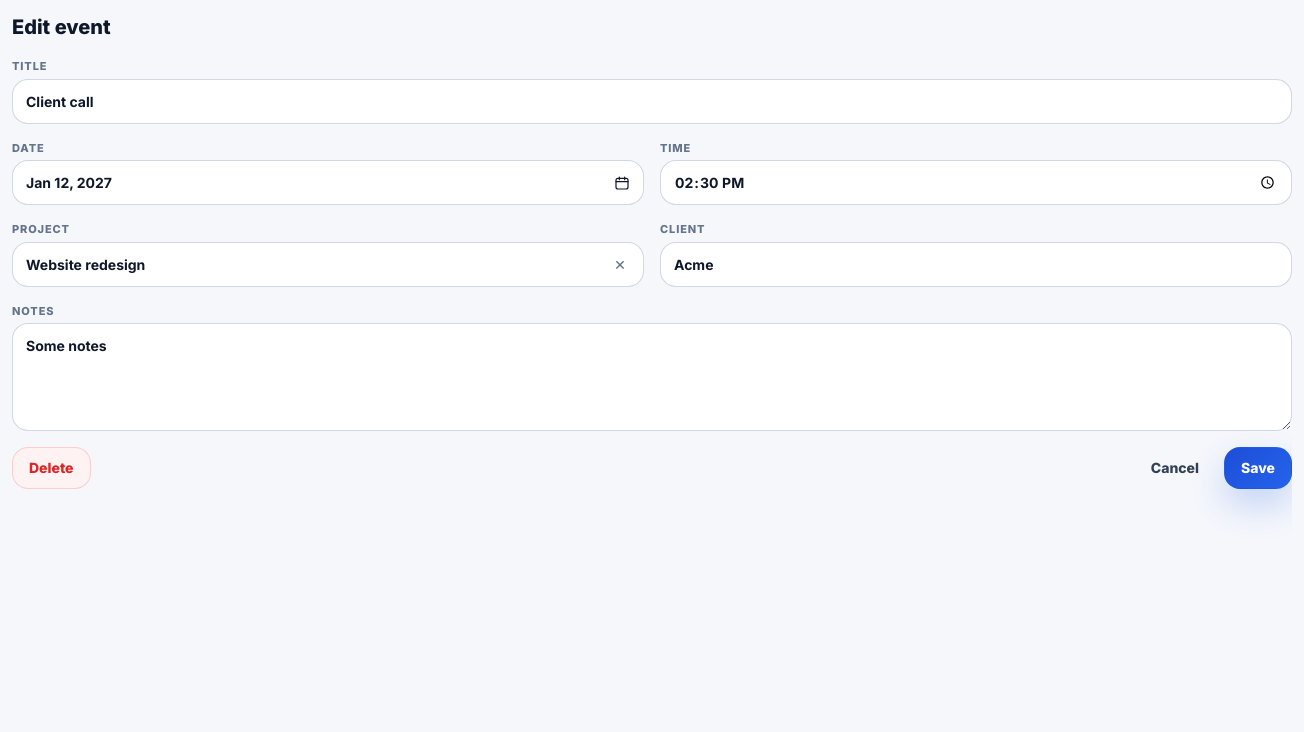
Test: CalendarEventForm — delete flow › failure preserves the dialog/form and shows an inline delete error
The width and height of the screenshot is (1304, 732).
Click the button "Delete". click: [51, 468]
box: 12,447 -> 90,489
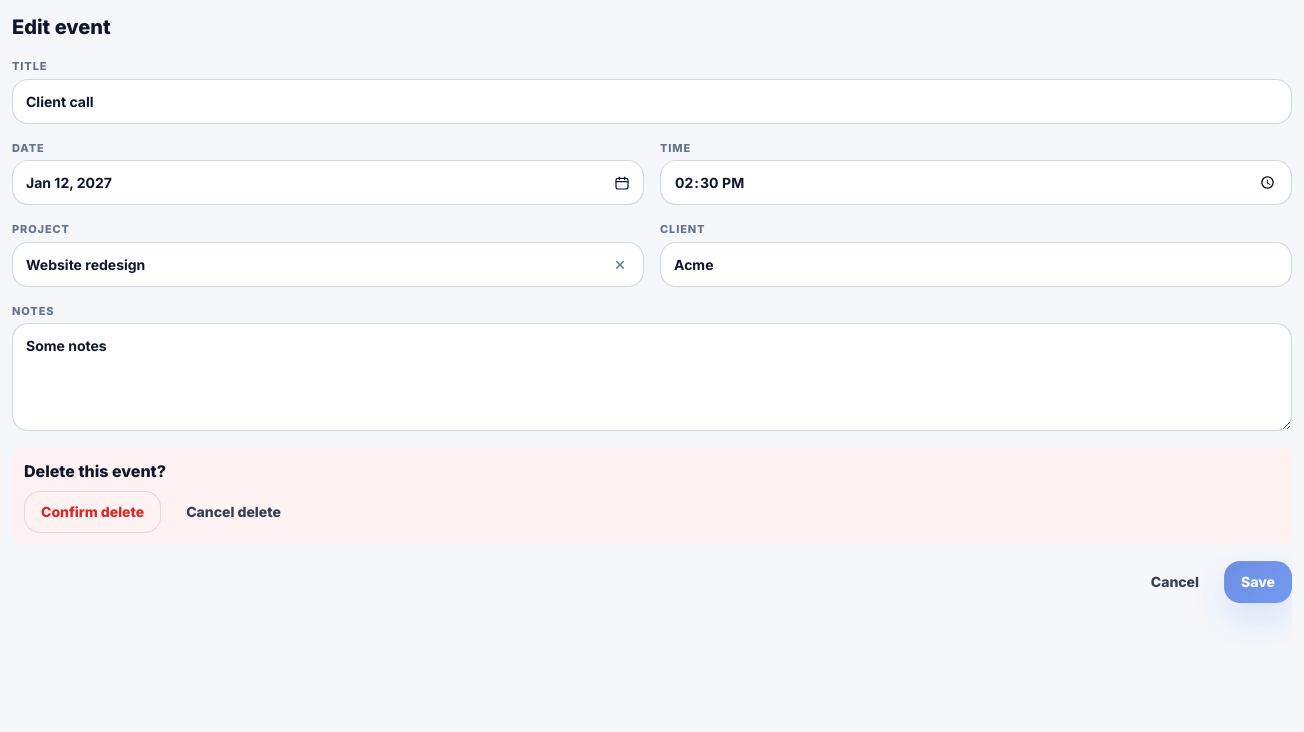
Click the button "Confirm delete". click: [93, 512]
box: 24,491 -> 161,533
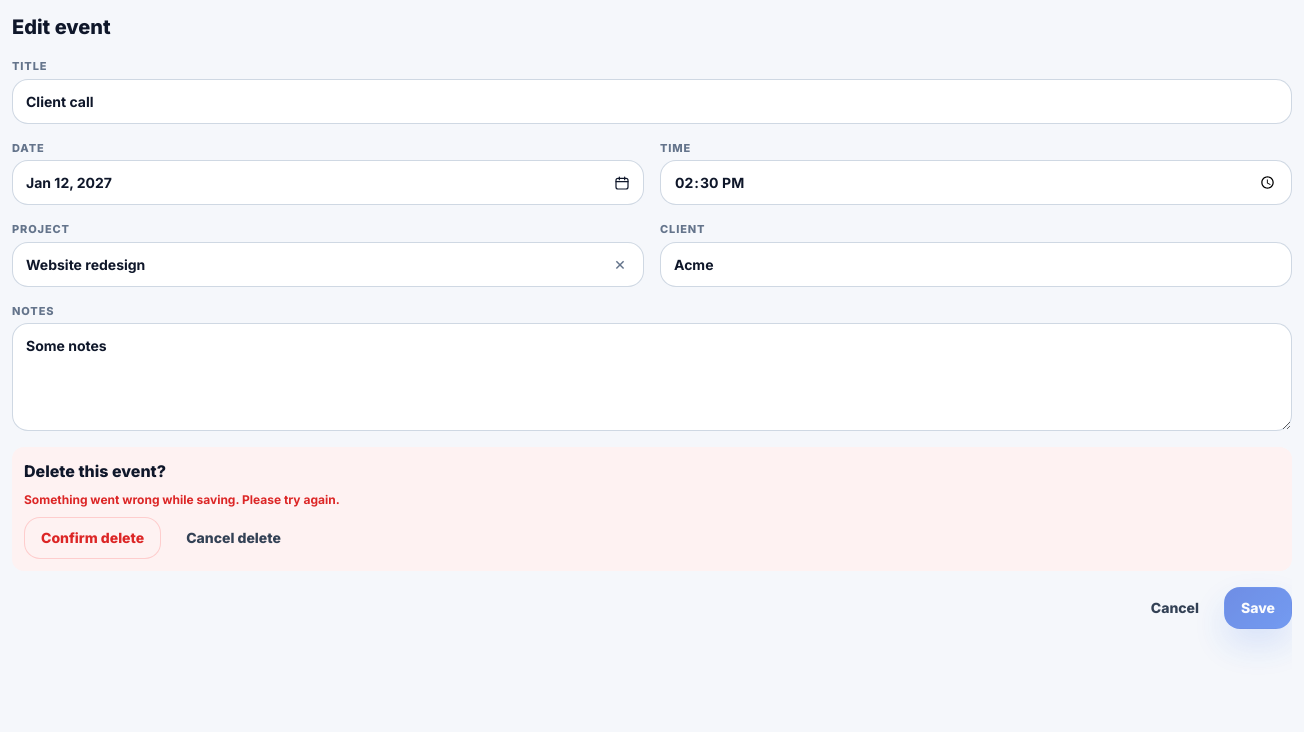
Check: the button "Confirm delete" is shown, box 24,517 -> 161,559
Check: the text "Something went wrong while saving. Please try again." is shown, box 24,492 -> 340,507
